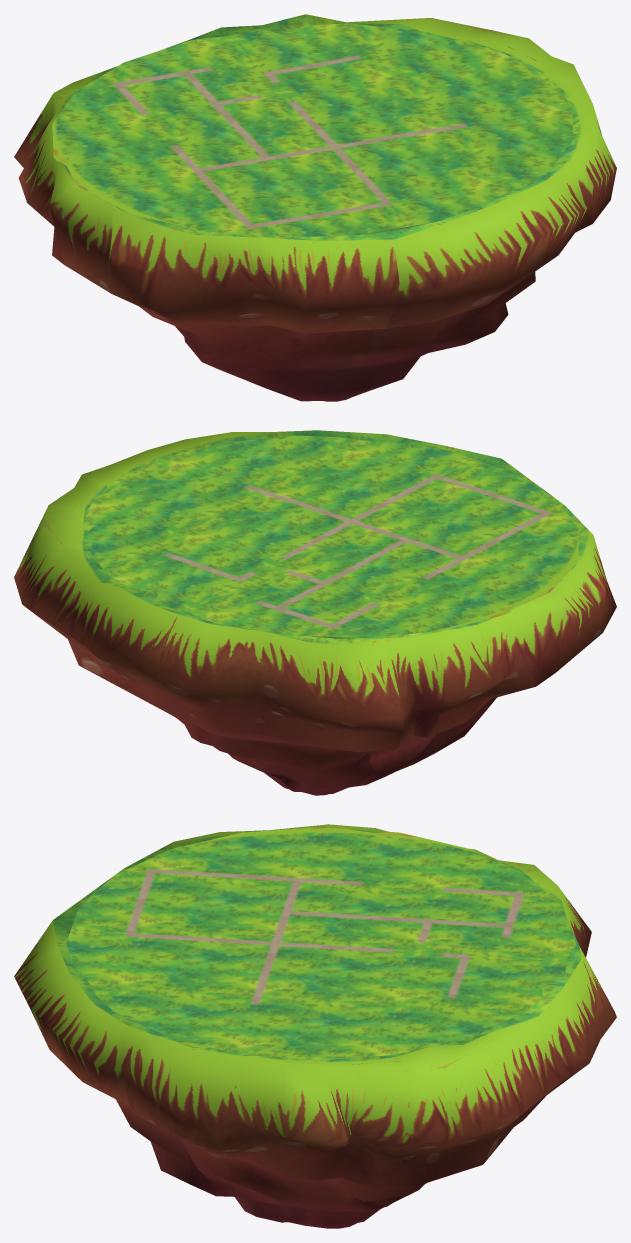
The model's file is spacepark.obj.
The picture shows the model from 3 angles, top to bottom: view 1: azimuth 30°, elevation 25°; view 2: azimuth 150°, elevation 25°; view 3: azimuth 270°, elevation 25°; orthographic projection. The views are drawn at different scales.
Parts seen in each view (by area): view 1: spacepark_Material.002; view 2: spacepark_Material.002; view 3: spacepark_Material.002.
Boxes of the visible parts, x1,y1,x2,y2 form: spacepark_Material.002: (14, 14, 616, 401); spacepark_Material.002: (14, 430, 616, 795); spacepark_Material.002: (14, 824, 616, 1228).
Size of the model in its own units: 3.74 by 1.78 by 3.52.
